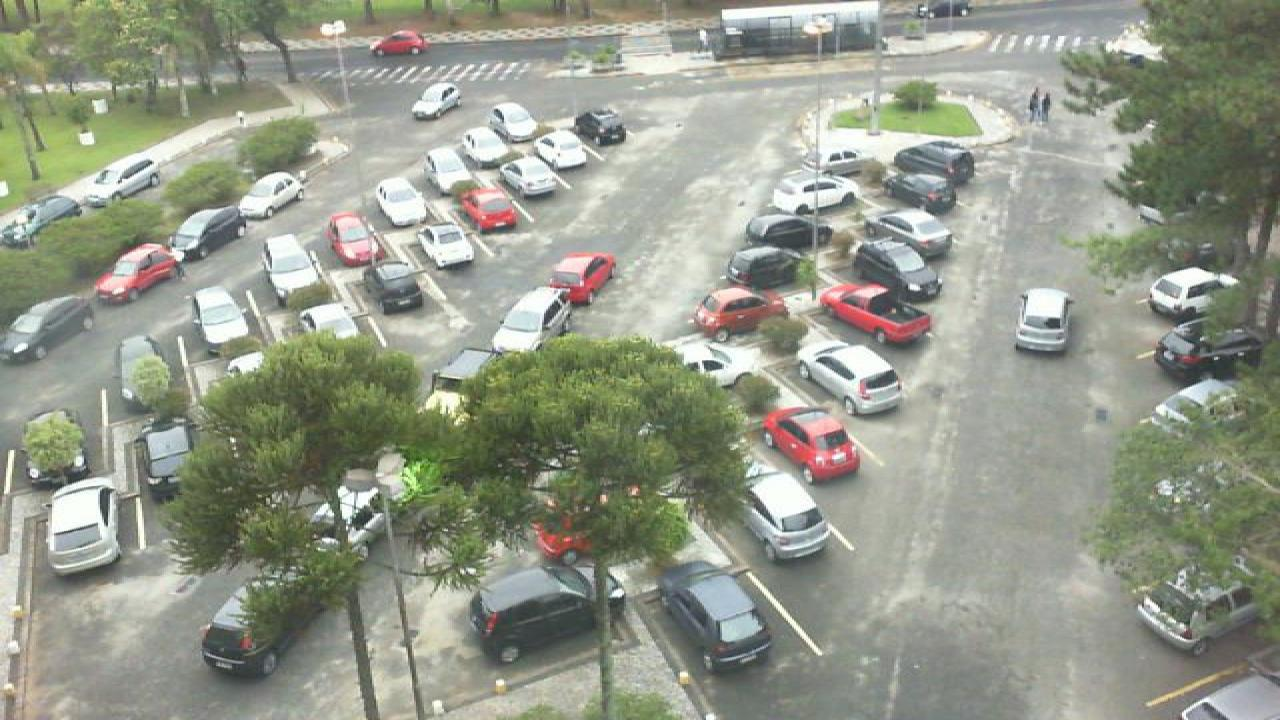Car: (470, 561, 628, 665), (658, 558, 778, 673), (1136, 564, 1266, 656), (198, 573, 310, 676), (736, 460, 836, 560), (792, 341, 904, 416), (42, 476, 126, 574), (762, 406, 862, 484), (816, 282, 932, 344), (1152, 320, 1268, 382), (414, 345, 506, 422), (488, 287, 576, 355), (92, 243, 188, 304), (326, 467, 390, 558), (856, 238, 946, 302), (692, 286, 792, 342), (1146, 264, 1236, 326), (858, 207, 954, 259), (166, 206, 250, 263), (726, 245, 818, 296), (190, 287, 256, 358), (140, 416, 198, 493), (0, 196, 84, 248), (114, 334, 166, 413), (258, 234, 324, 296), (84, 156, 162, 207), (744, 212, 834, 255), (772, 172, 858, 217), (546, 252, 616, 307), (1014, 288, 1072, 354), (232, 170, 308, 220), (670, 340, 744, 391), (892, 140, 976, 184), (362, 260, 426, 315), (880, 171, 958, 216), (296, 300, 364, 351), (456, 184, 520, 233), (416, 223, 480, 271), (326, 211, 380, 266), (374, 178, 432, 227), (420, 146, 476, 196), (498, 156, 560, 200), (530, 131, 588, 172), (572, 107, 628, 148), (488, 102, 540, 142), (460, 126, 512, 166), (802, 147, 864, 179)
